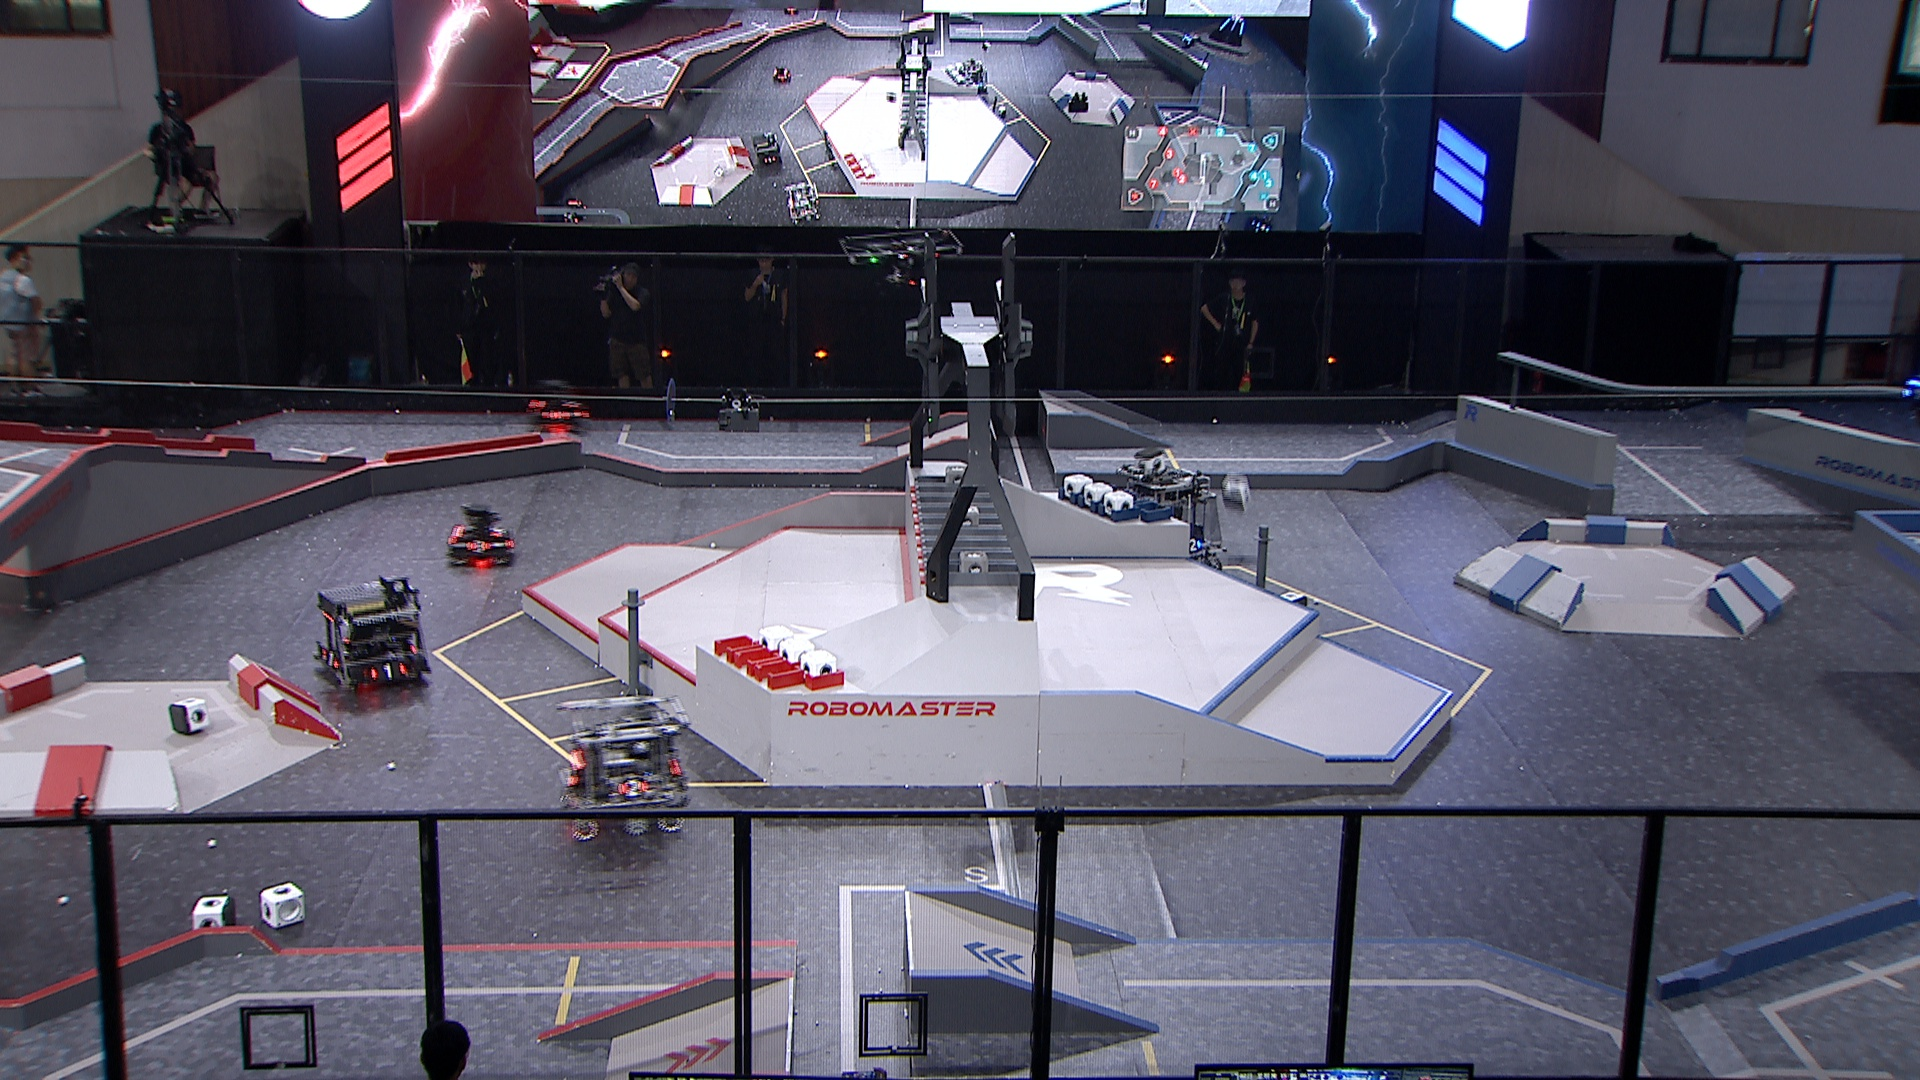armor: (367, 659, 414, 687), (617, 775, 647, 799), (465, 537, 493, 556), (319, 645, 338, 674), (1183, 534, 1204, 555), (558, 409, 584, 425), (487, 522, 508, 541)
car: (553, 694, 692, 844), (314, 578, 433, 695), (1120, 469, 1230, 578), (442, 501, 516, 568), (527, 376, 585, 433)
ignore: (783, 179, 825, 224), (1207, 12, 1247, 49), (957, 58, 993, 98), (750, 131, 782, 167), (1244, 211, 1276, 235), (560, 200, 588, 225), (769, 65, 794, 86), (1179, 30, 1203, 51)
watcher: (1899, 371, 1920, 433)
